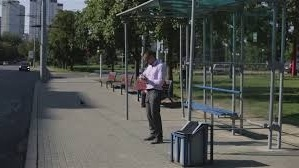not_fallen: (133, 51, 172, 145)
